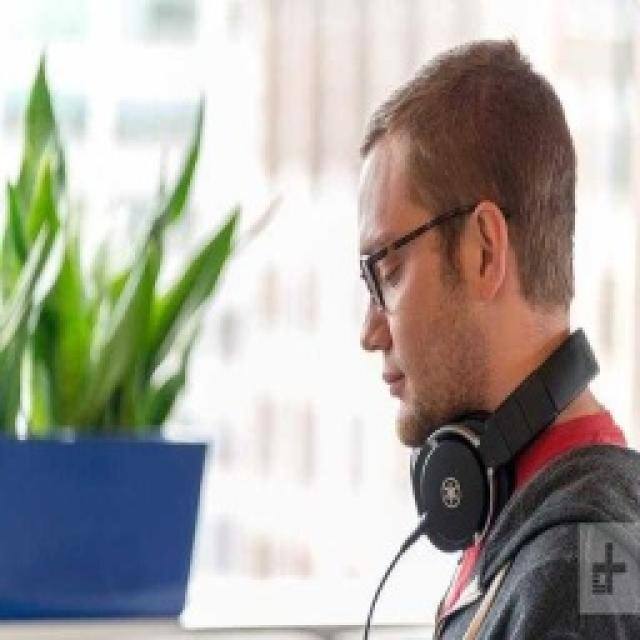headphones: (408, 325, 600, 550)
